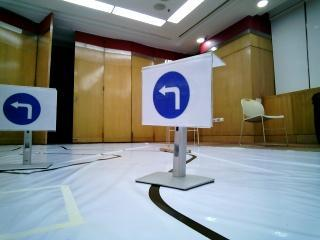left: (145, 66, 206, 127), (0, 86, 56, 128)
